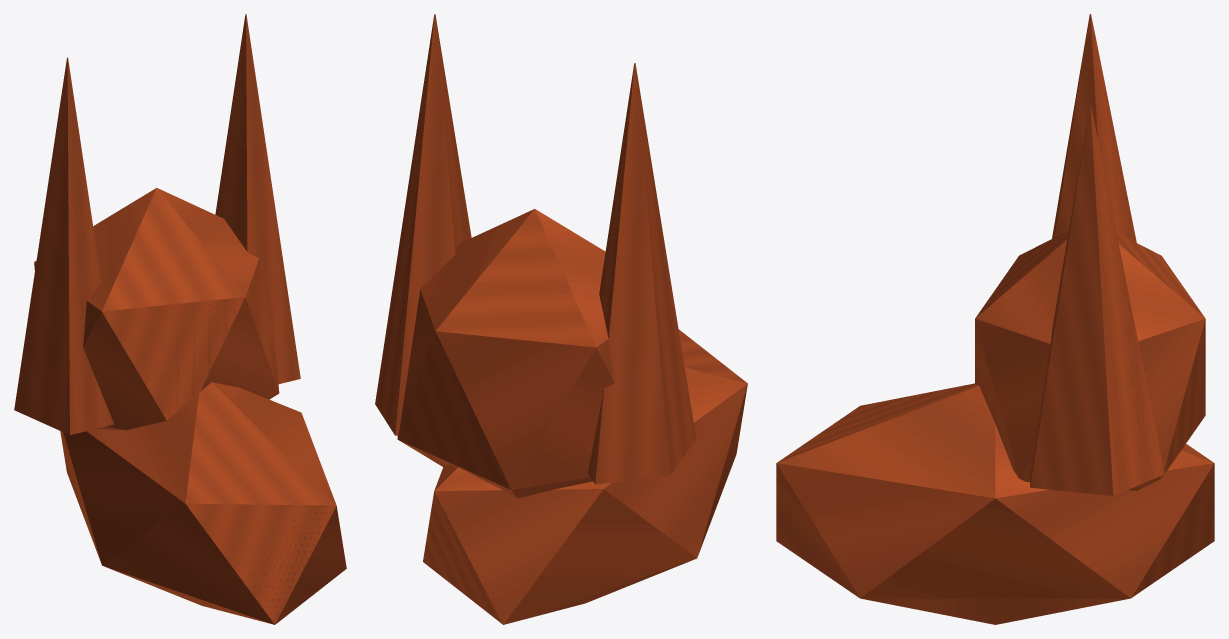
Rendered from ember_trail.glb.
3 renders of one model, left to right at view 1: azimuth 30°, elevation 25°; view 2: azimuth 150°, elevation 25°; view 3: azimuth 270°, elevation 25°, orthographic. The views are drawn at different scales.
Visible parts, largest first — view 1: gear_ember_trail; view 2: gear_ember_trail; view 3: gear_ember_trail.
Boxes of the visible parts, <box> form: gear_ember_trail: <box>14,14,346,624</box>; gear_ember_trail: <box>375,14,747,624</box>; gear_ember_trail: <box>776,14,1214,624</box>.
Size of the model in its own units: 0.2361 by 0.46 by 0.3232.
1 material, 1 textured.
